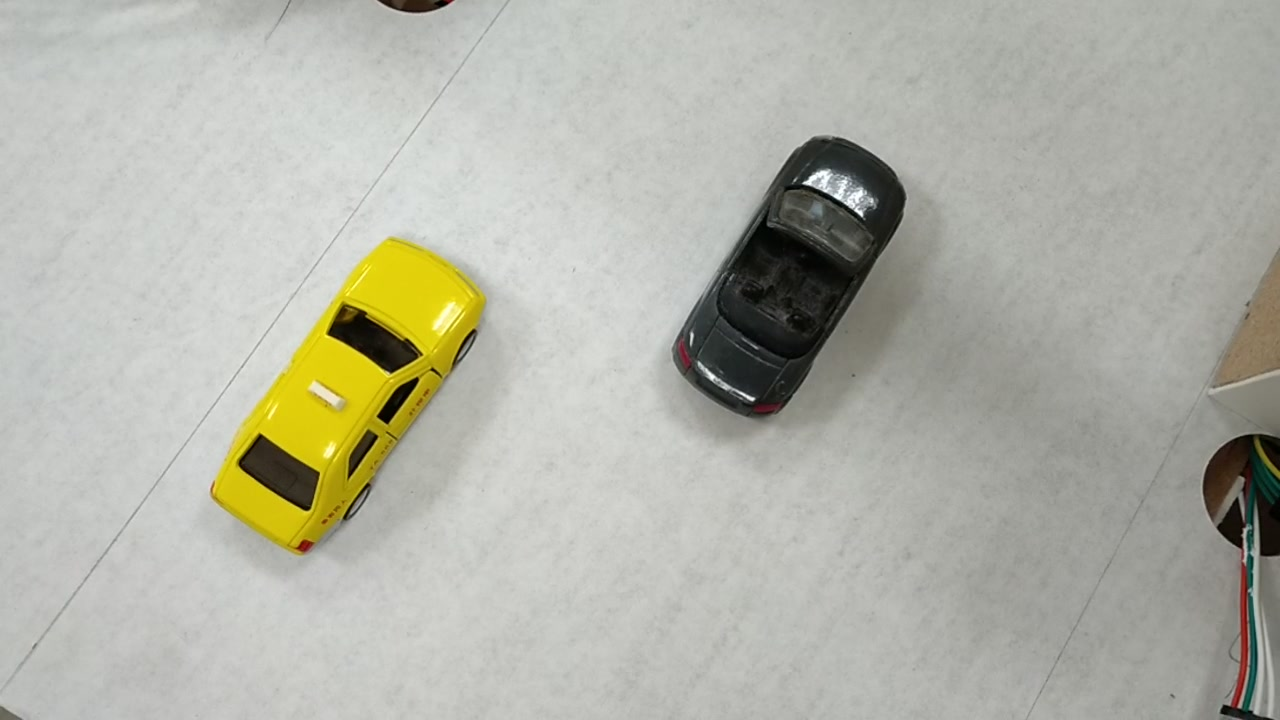car: (208, 250, 477, 561), (669, 135, 897, 414)
